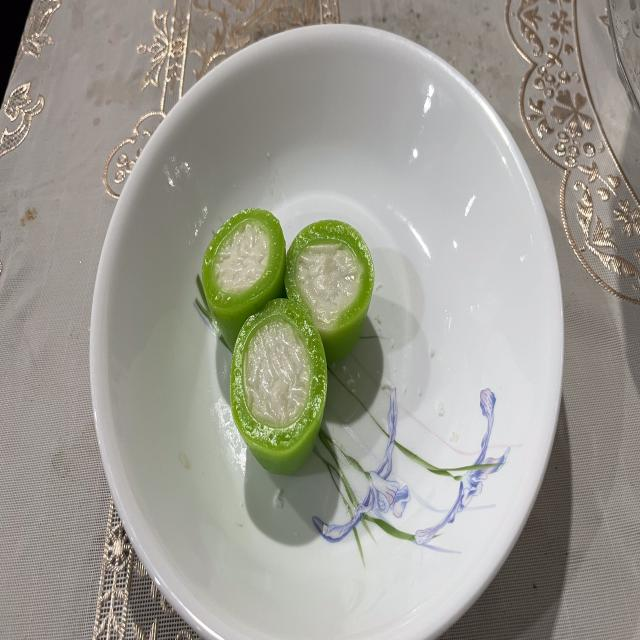nona-manis: (230, 298, 328, 473), (285, 220, 374, 362), (202, 209, 286, 349)
